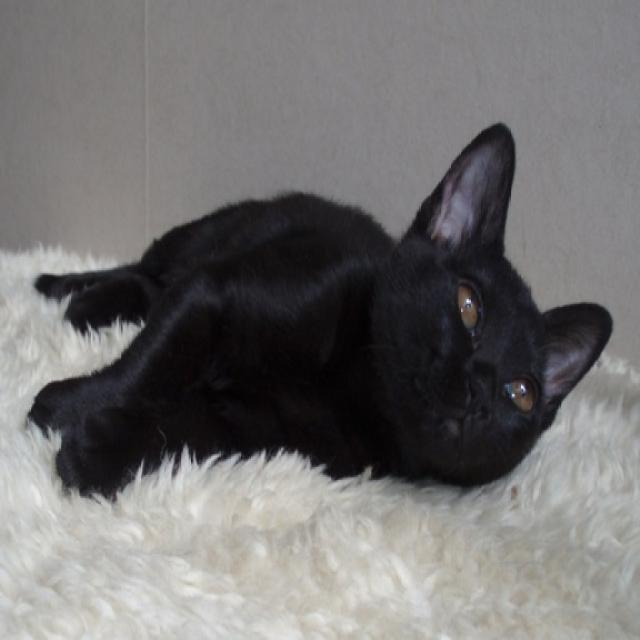Bombay: (25, 121, 616, 515)
